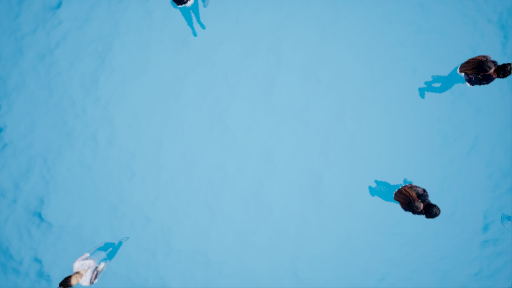person: (415, 51, 512, 106), (58, 231, 136, 288), (364, 173, 441, 227)
